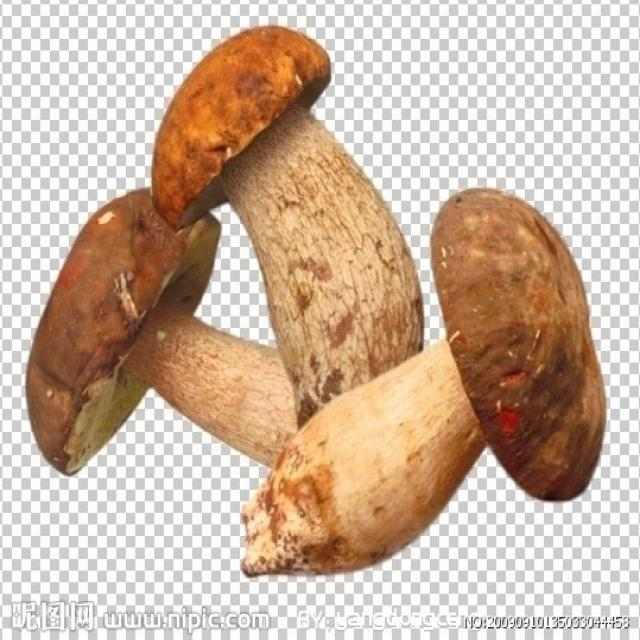Boletus: (245, 187, 604, 574), (158, 23, 429, 403), (29, 182, 297, 479)
